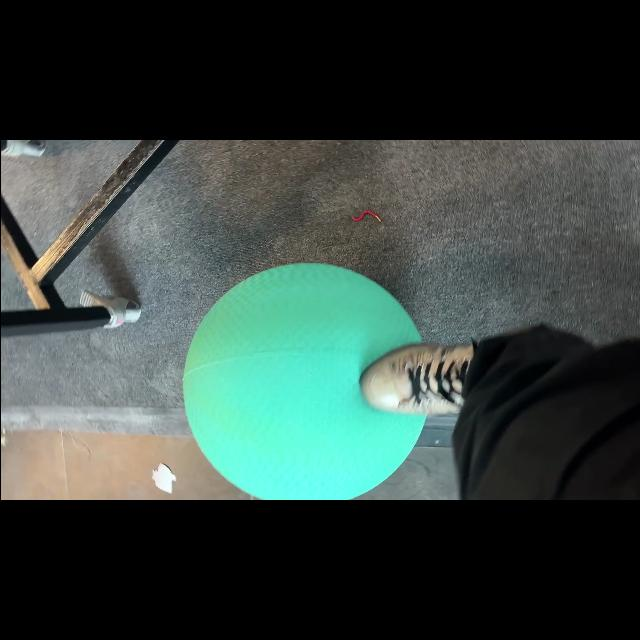ALGAE: (180, 262, 426, 500)
